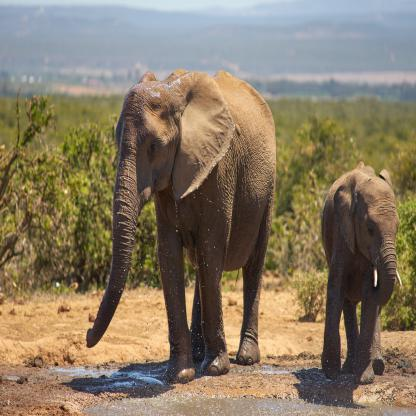Elephas-maximus: (86, 68, 276, 386), (320, 159, 404, 386)
